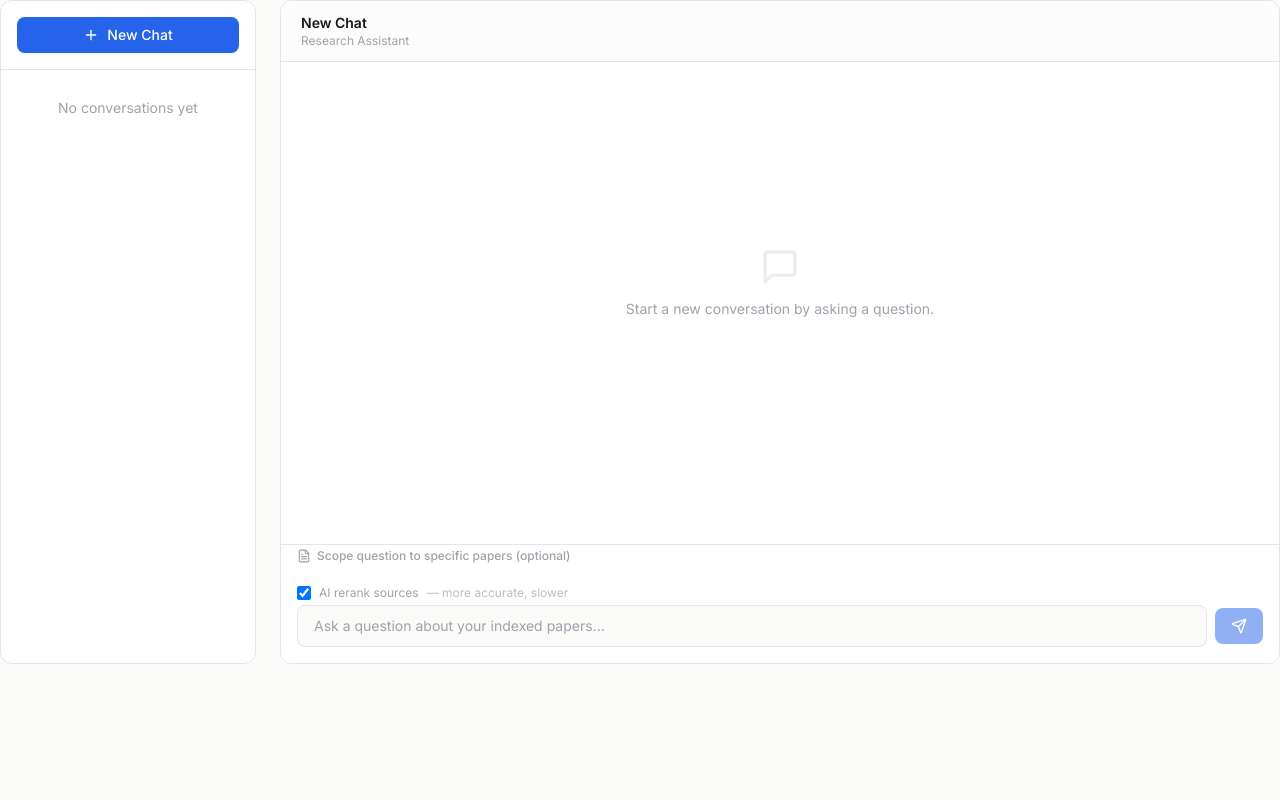
Scenario: Chat reranking › makes no rerank claim when the reranker fell back
(page scrolled)
Type "What is attention?" into the field with placeholder "Ask a question about your indexed papers..." at (752, 626), box [297, 605, 1207, 647]
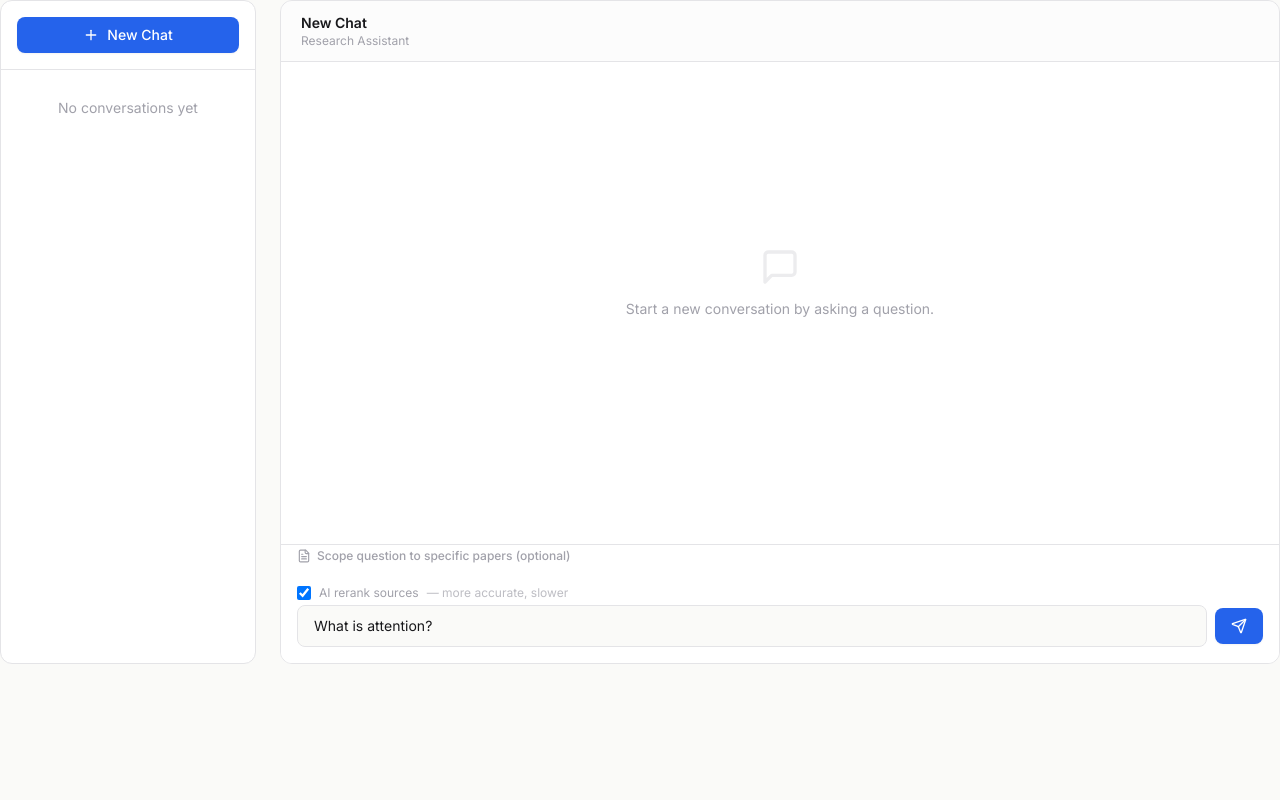
Submit the form with placeholder "ask a question", box [297, 605, 1263, 647]
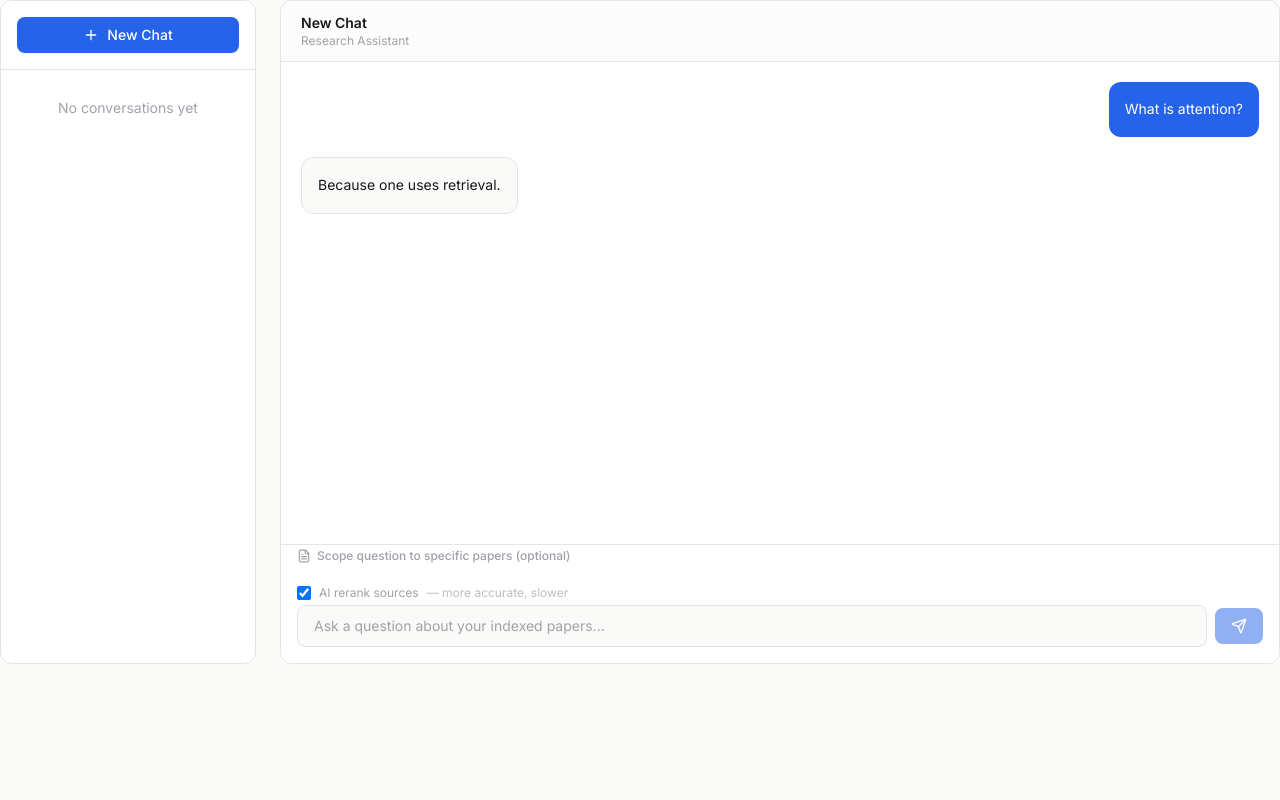
Expected: the text "Because one uses retrieval." is shown, [318, 174, 501, 197]
